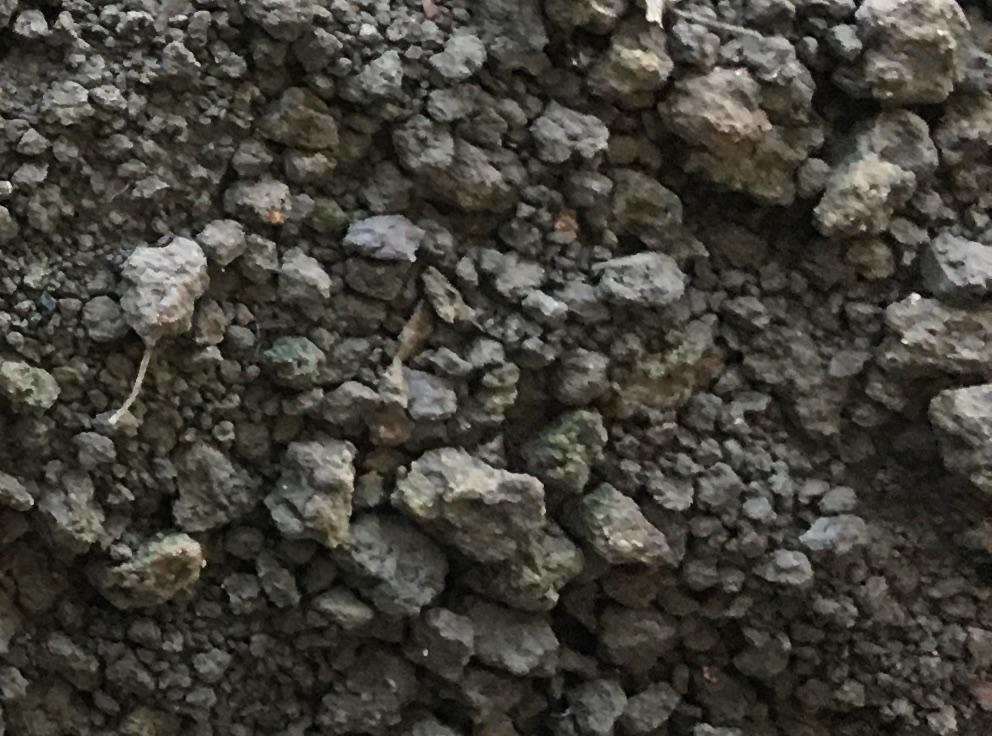block: (671, 59, 804, 218), (390, 445, 540, 563), (855, 1, 967, 112)
